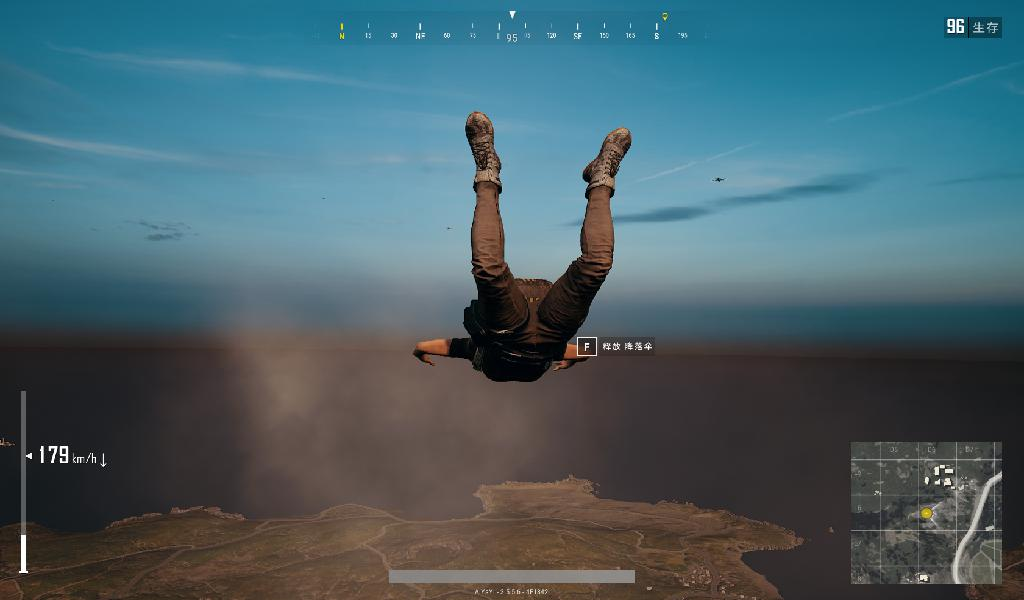Target Person: (413, 108, 633, 385)
